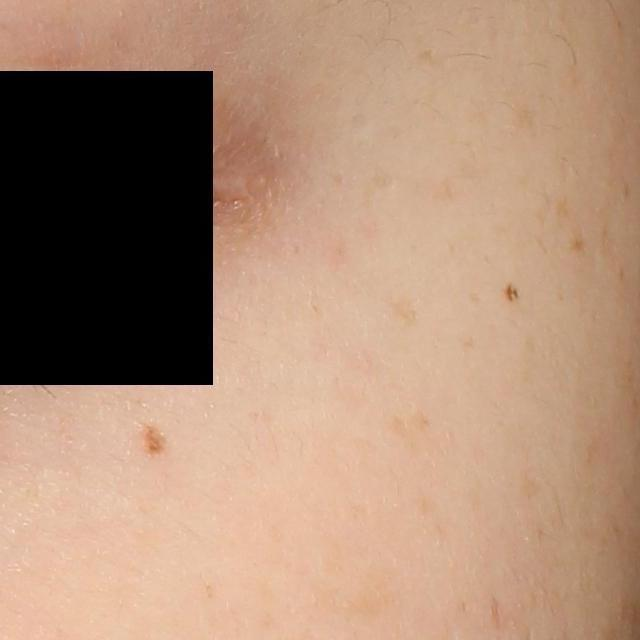melasma: (387, 409, 430, 445), (387, 296, 419, 326), (430, 177, 456, 199), (570, 226, 589, 256), (416, 45, 440, 68), (555, 197, 571, 220)
nevus: (137, 425, 173, 461), (502, 281, 525, 304)
